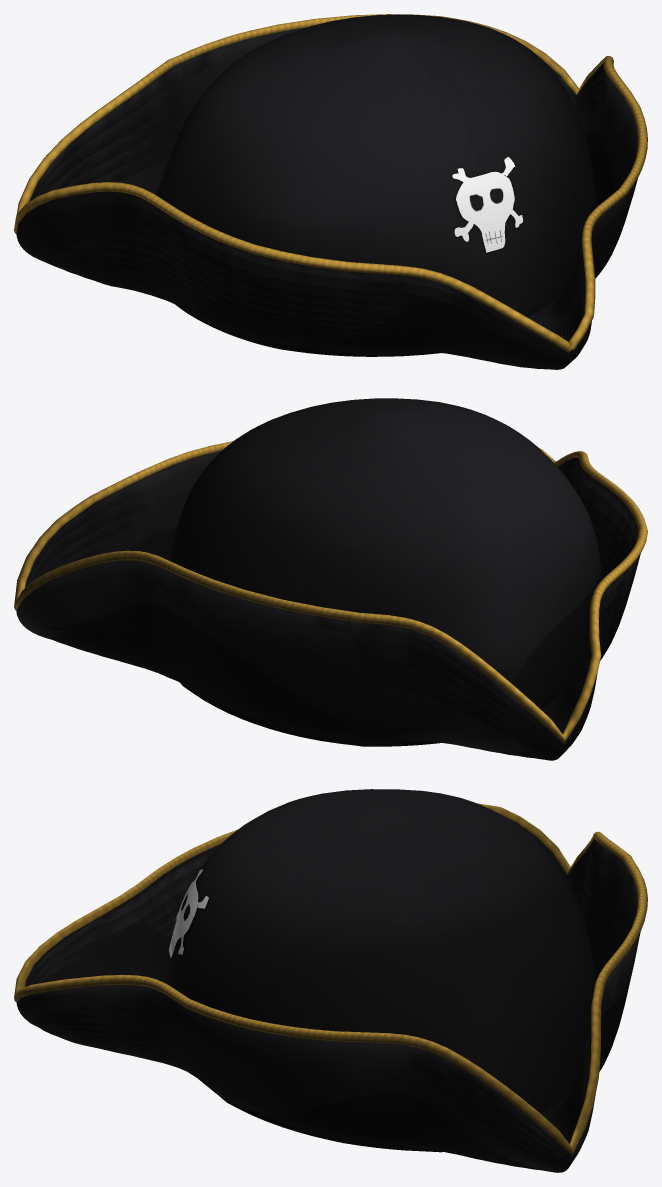
File: hat_tricorn_male_lo.glb
3 renders of one model, top to bottom at view 1: azimuth 30°, elevation 25°; view 2: azimuth 150°, elevation 25°; view 3: azimuth 270°, elevation 25°, orthographic. The views are drawn at different scales.
Visible parts, largest first — view 1: hat_tricorn_lo; view 2: hat_tricorn_lo; view 3: hat_tricorn_lo.
Boxes of the visible parts, x1,y1,x2,y2 form: hat_tricorn_lo: (14,14,647,369); hat_tricorn_lo: (14,398,647,760); hat_tricorn_lo: (14,789,647,1172).
Bounding box in the file's own units: 0.8434 × 0.3434 × 0.7869.
1 material, 1 textured.
